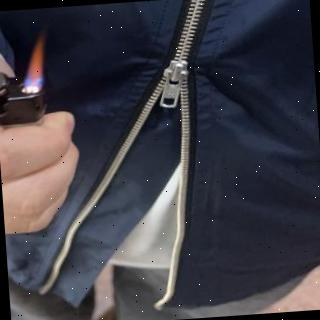fire: (22, 30, 48, 93)
